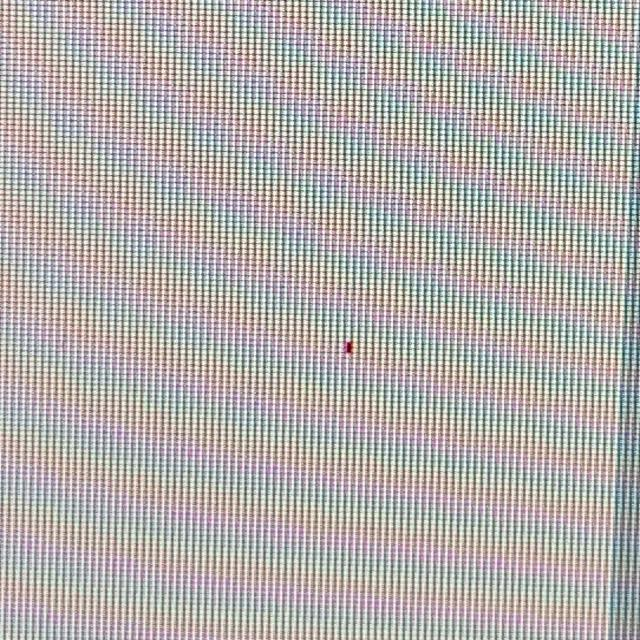Dead pixel: (344, 341, 354, 353)
